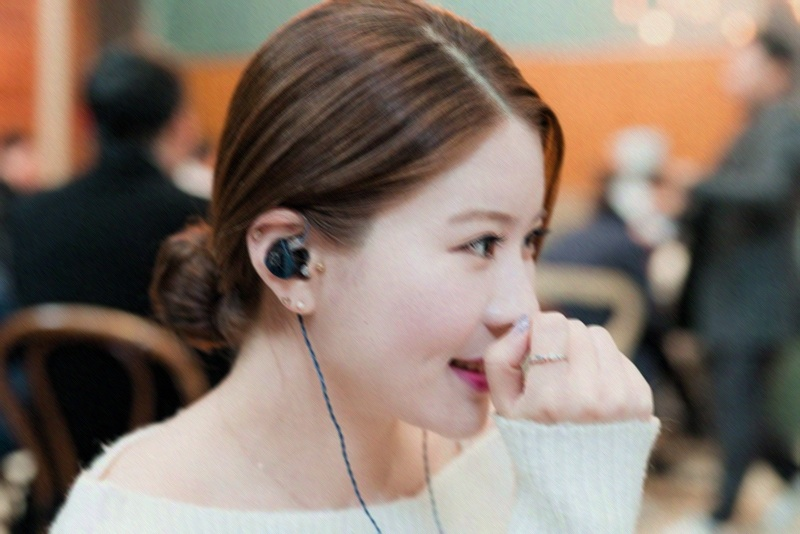earphone: (247, 206, 320, 314)
